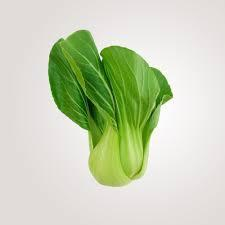Healthy-Pechay: (34, 29, 181, 185)
